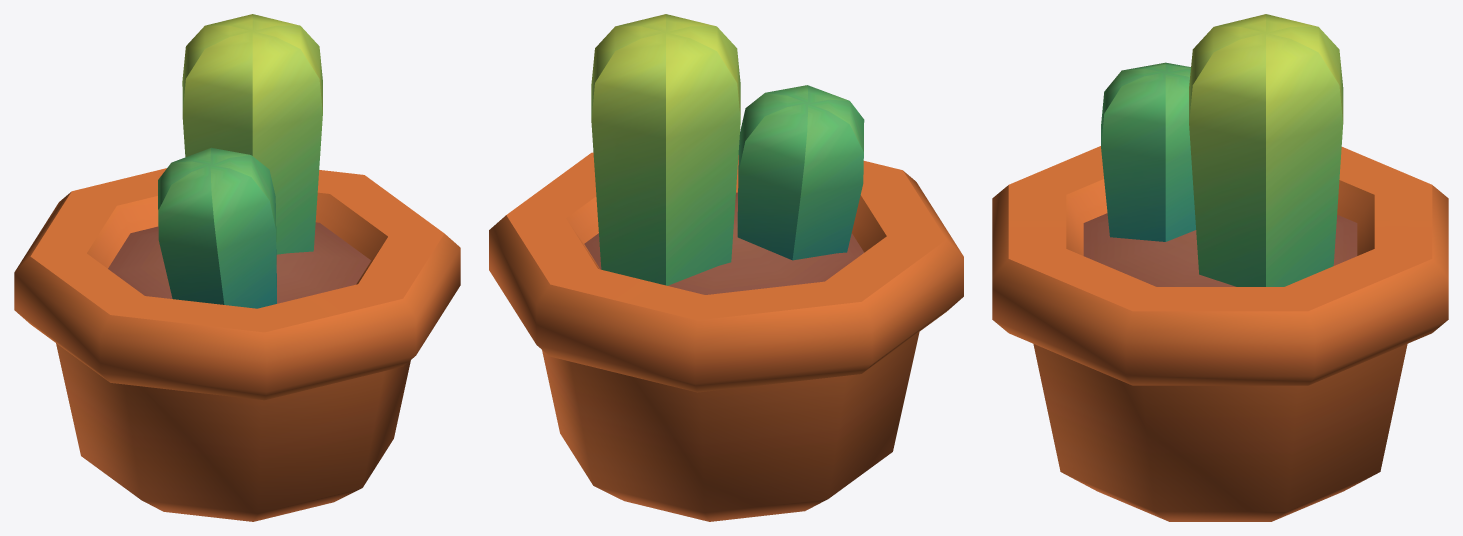
The model's file is cactus_small_B.glb.
The picture shows the model from 3 angles, left to right: view 1: azimuth 30°, elevation 25°; view 2: azimuth 150°, elevation 25°; view 3: azimuth 270°, elevation 25°; orthographic projection. The views are drawn at different scales.
Parts seen in each view (by area): view 1: cactus_small_B; view 2: cactus_small_B; view 3: cactus_small_B.
Boxes of the visible parts, box(x1,y1,x2,y2) form: cactus_small_B: box(14, 14, 460, 521); cactus_small_B: box(489, 14, 963, 521); cactus_small_B: box(992, 14, 1448, 521).
Size of the model in its own units: 0.5 by 0.5516 by 0.5.
Materials: 1 (1 with a texture image).
